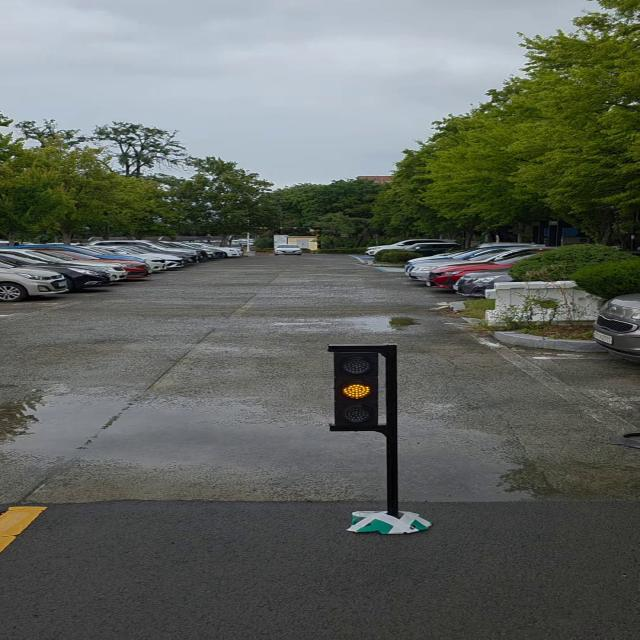yellow: (330, 345, 384, 434)
